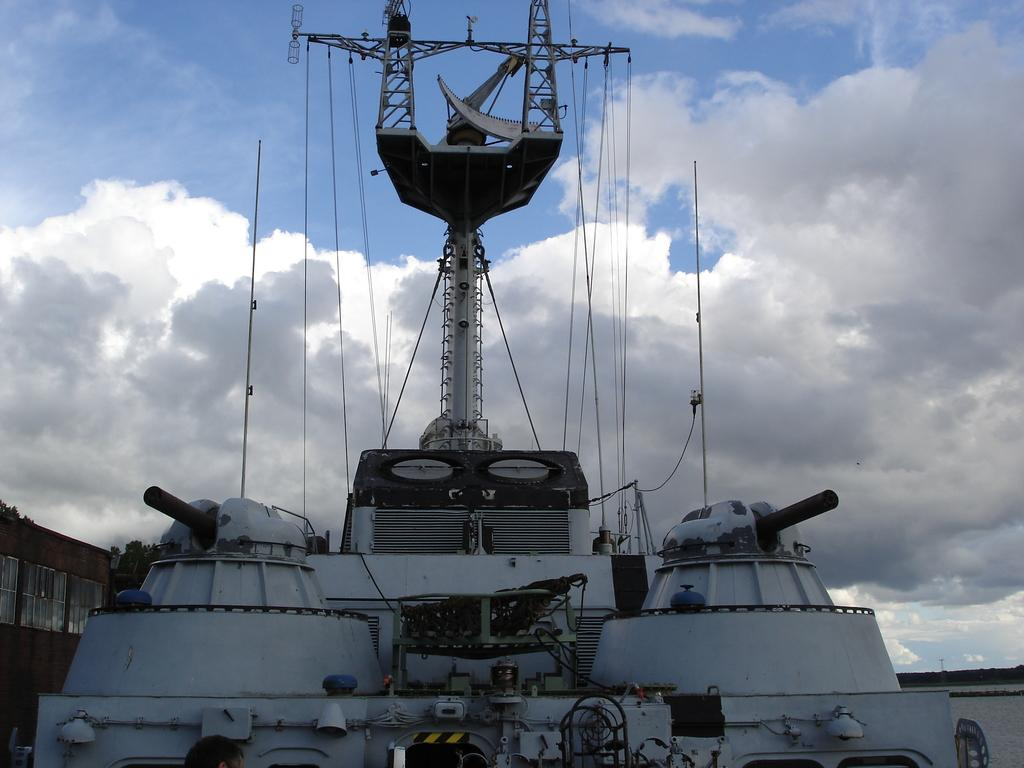Tank: (52, 484, 386, 692), (590, 486, 904, 688)
